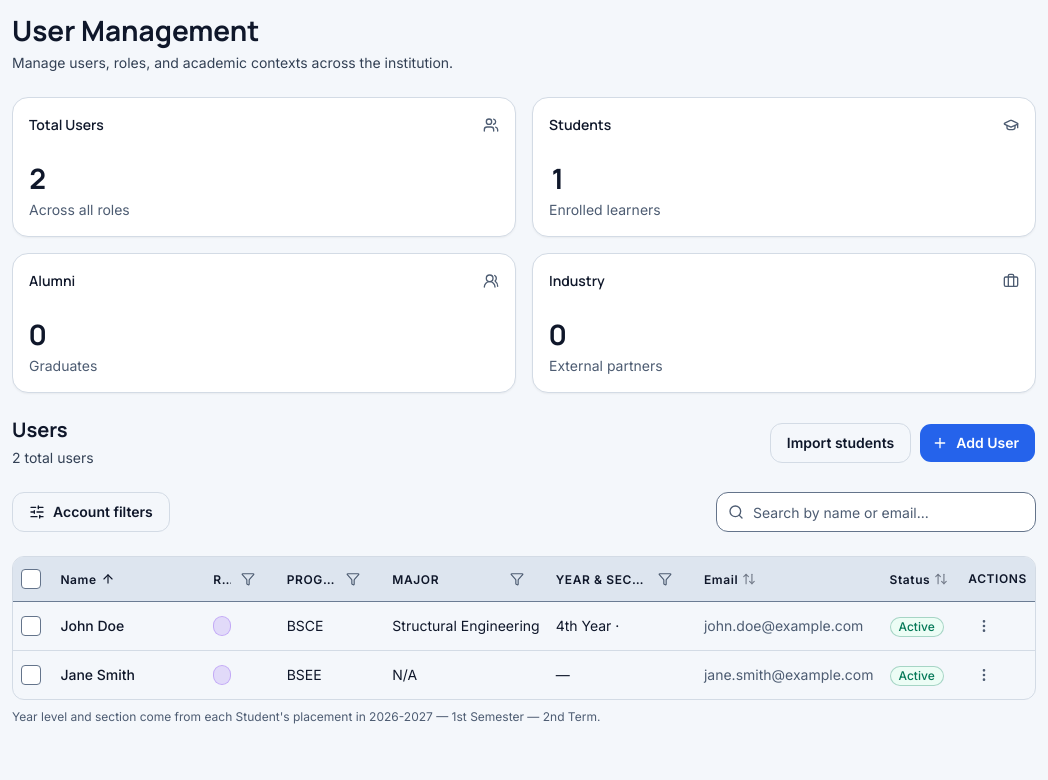
Scenario: SecretaryUsersList › renders user action kebab menu with icons and action items
Click the button named "Actions for John Doe" at (984, 626), box top-left (968, 610), bottom-right (1000, 642)
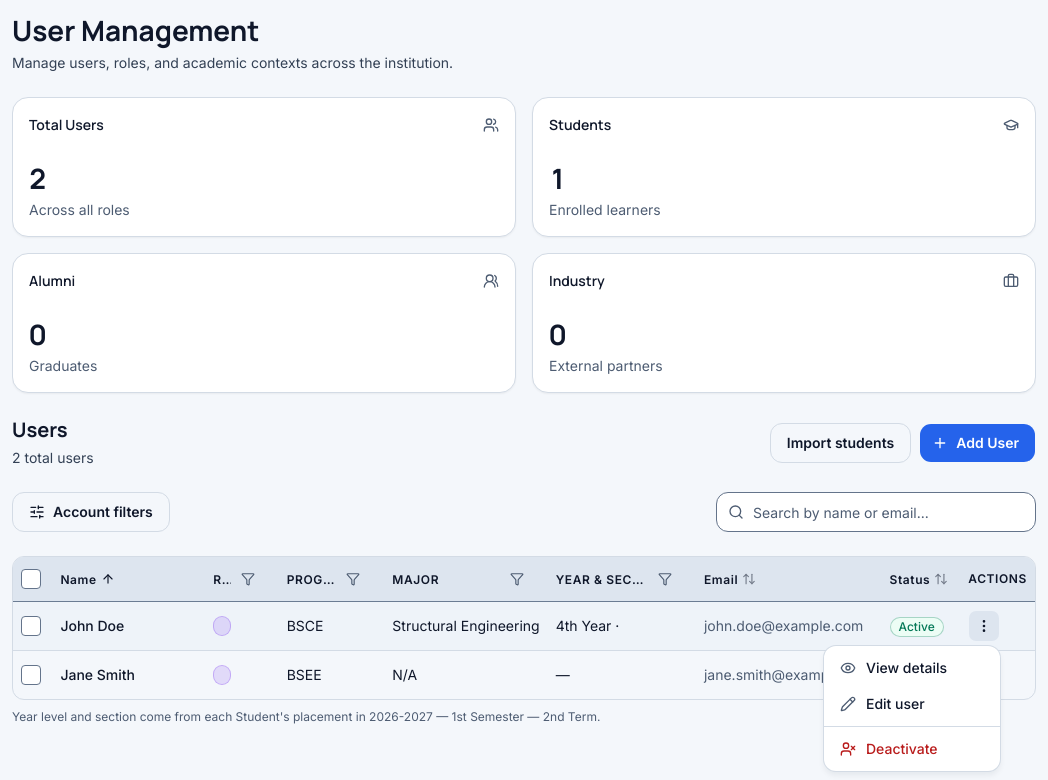
Expected: the menu item "View details" is shown, top-left (840, 659), bottom-right (947, 676)
Expected: the menu item "Edit user" is shown, top-left (840, 695), bottom-right (925, 712)
Expected: the menu item "Deactivate" is shown, top-left (840, 740), bottom-right (938, 757)
